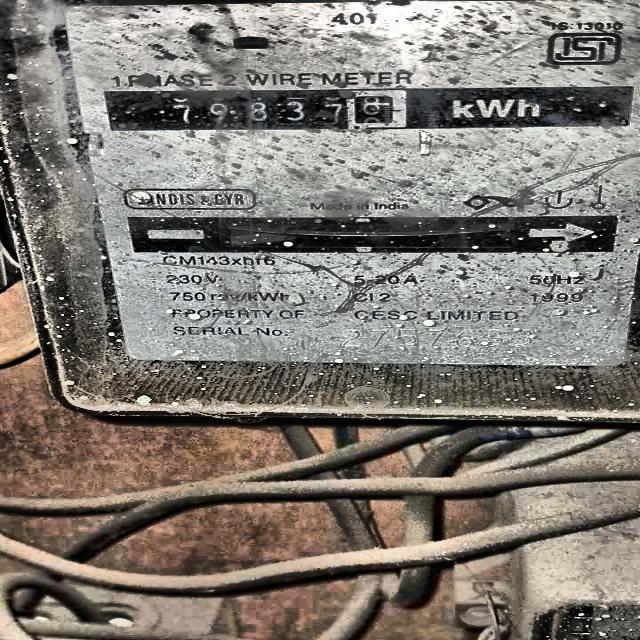Analog: (7, 0, 638, 424)
Reading: (161, 94, 399, 126)
Serial No.: (338, 327, 548, 354)
